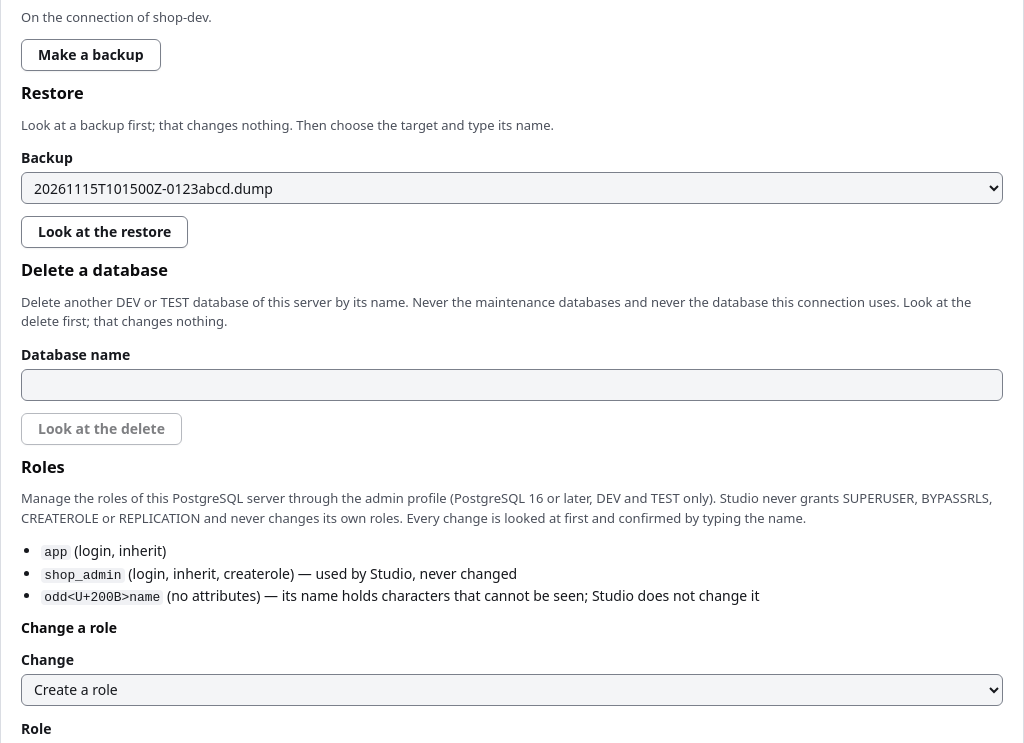
Test: the Database Manager section › shows why a delete is refused
(page scrolled)
In the field with test id "database-manager-delete-name": [512, 385] box [21, 369, 1003, 401], type "shop"
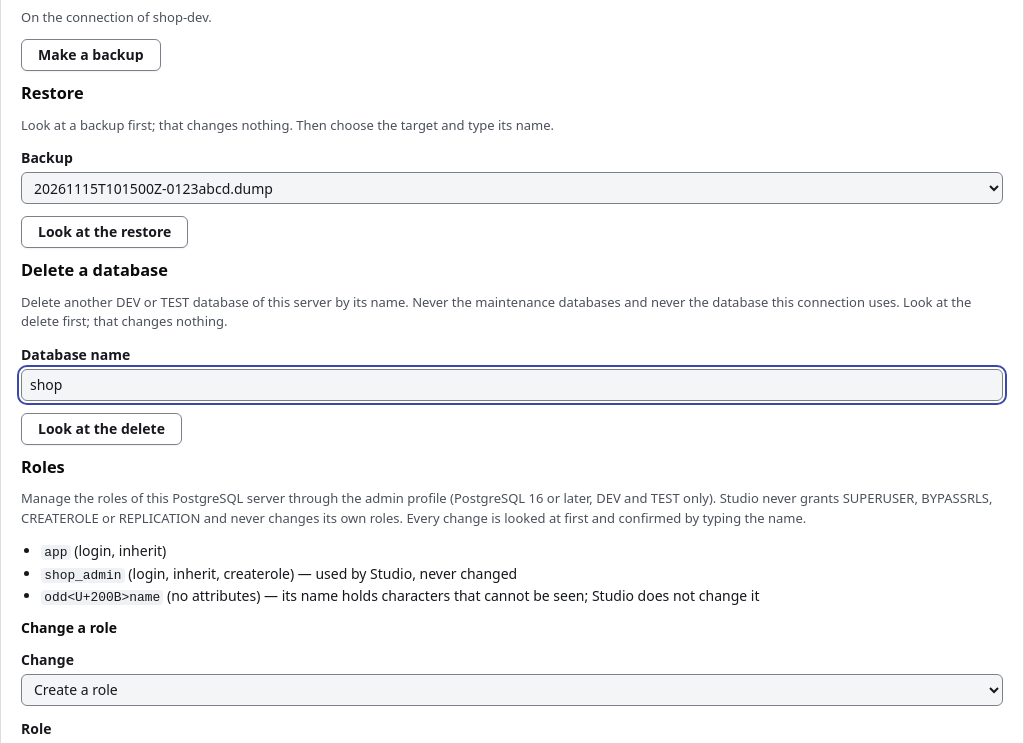
Click the button with test id "database-manager-delete-preview": [102, 429] box [21, 413, 182, 445]
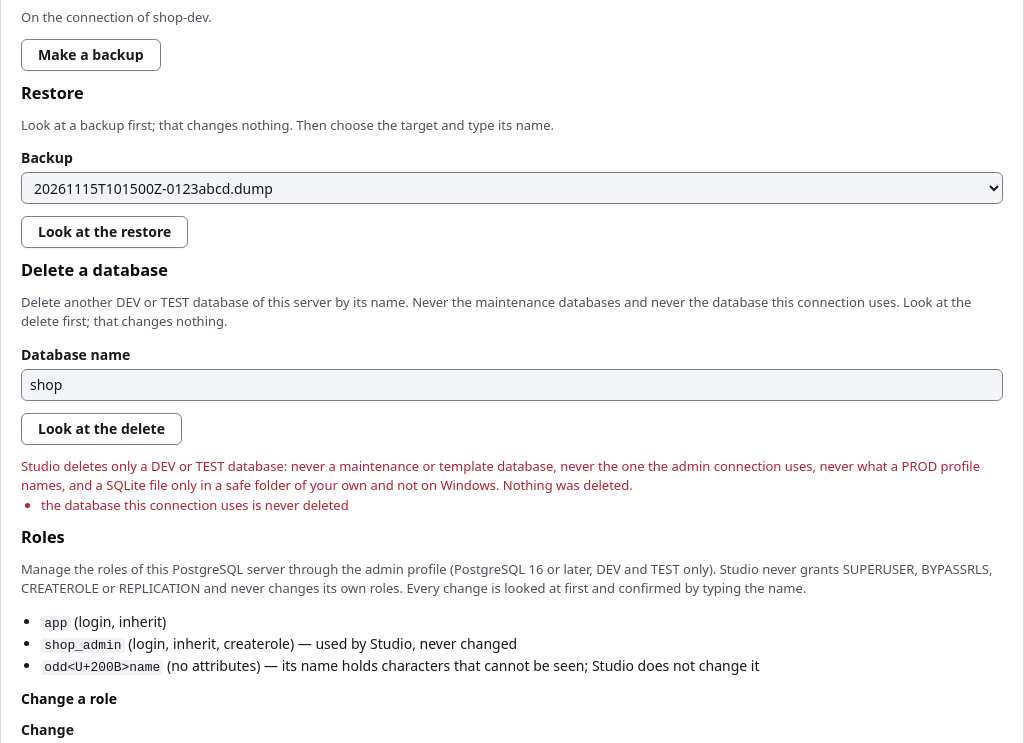
Expected: the message with test id "database-manager-problem" shows "Studio deletes only a DEV or TEST database", [21, 457, 980, 494]
Expected: the message with test id "database-manager-problem" shows "the database this connection uses is never deleted", [41, 496, 349, 514]
